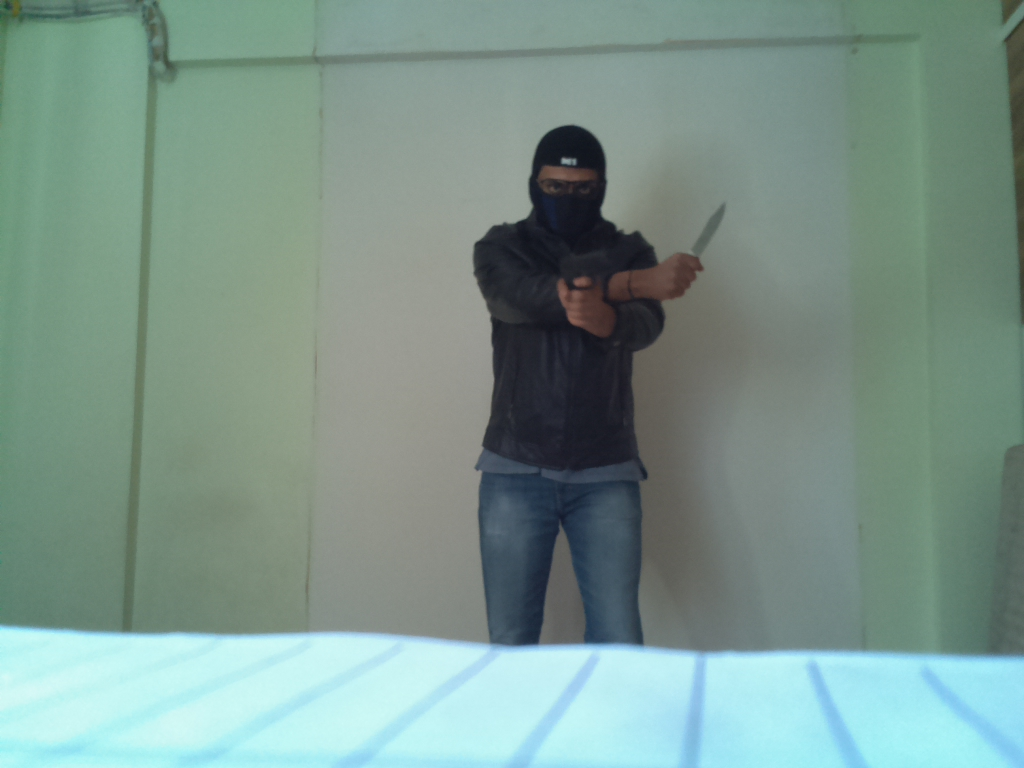knife: (684, 200, 735, 273)
